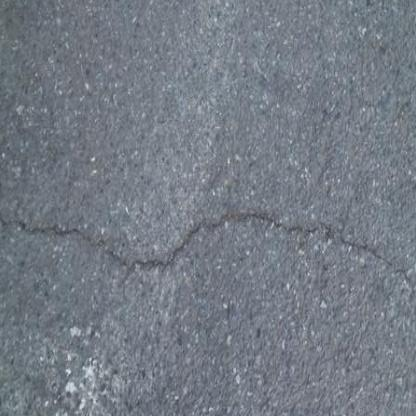Cracks: (0, 115, 416, 348)
